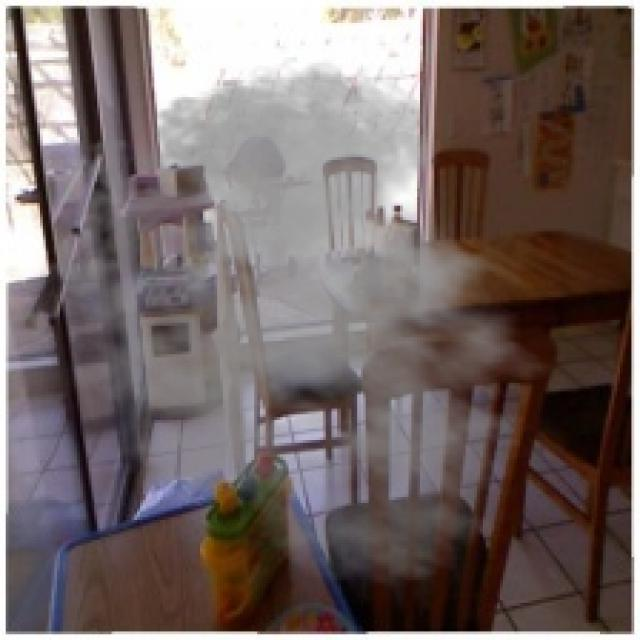smoke: (26, 54, 571, 589)
